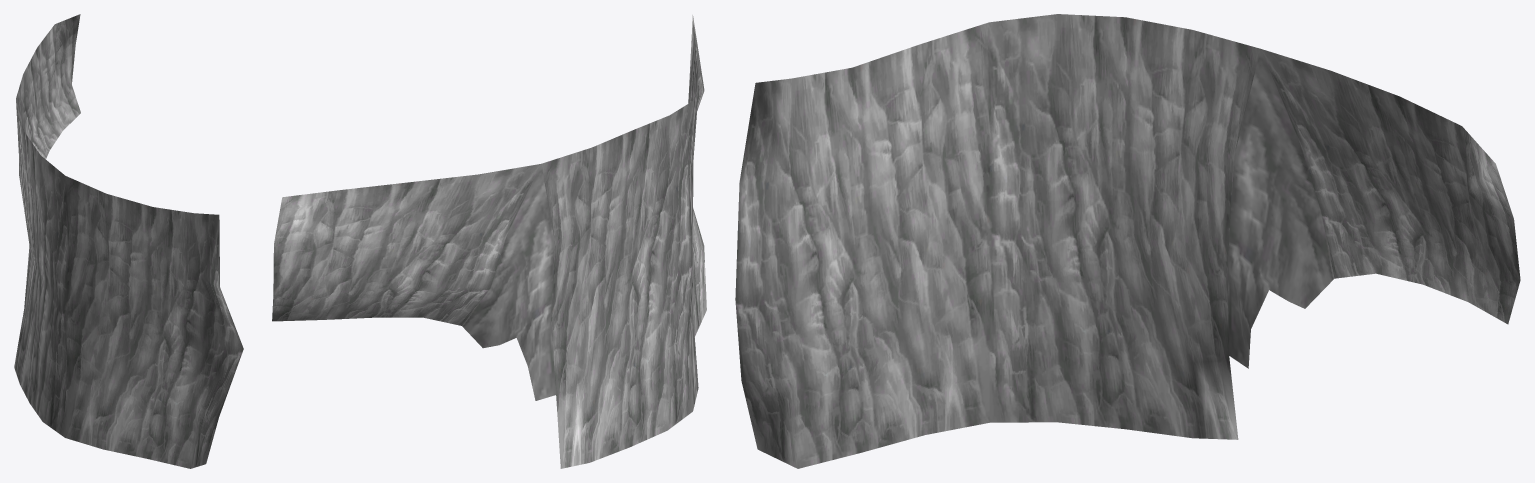
File: SWORDLIGHT20_PS-AREA03_162.fbx
3 views of the same model, side by side, from view 1: azimuth 30°, elevation 25°; view 2: azimuth 150°, elevation 25°; view 3: azimuth 270°, elevation 25° (orthographic). The views are drawn at different scales.
Visible parts, largest first — view 1: SWORDLIGHT20_PS-AREA03_162; view 2: SWORDLIGHT20_PS-AREA03_162; view 3: SWORDLIGHT20_PS-AREA03_162.
Boxes of the visible parts, x1,y1,x2,y2 form: SWORDLIGHT20_PS-AREA03_162: (14, 14, 243, 468); SWORDLIGHT20_PS-AREA03_162: (272, 15, 706, 468); SWORDLIGHT20_PS-AREA03_162: (735, 14, 1520, 468).
Size of the model in its own units: 75771 by 103447 by 179600.
Materials: 2 (2 with a texture image).
